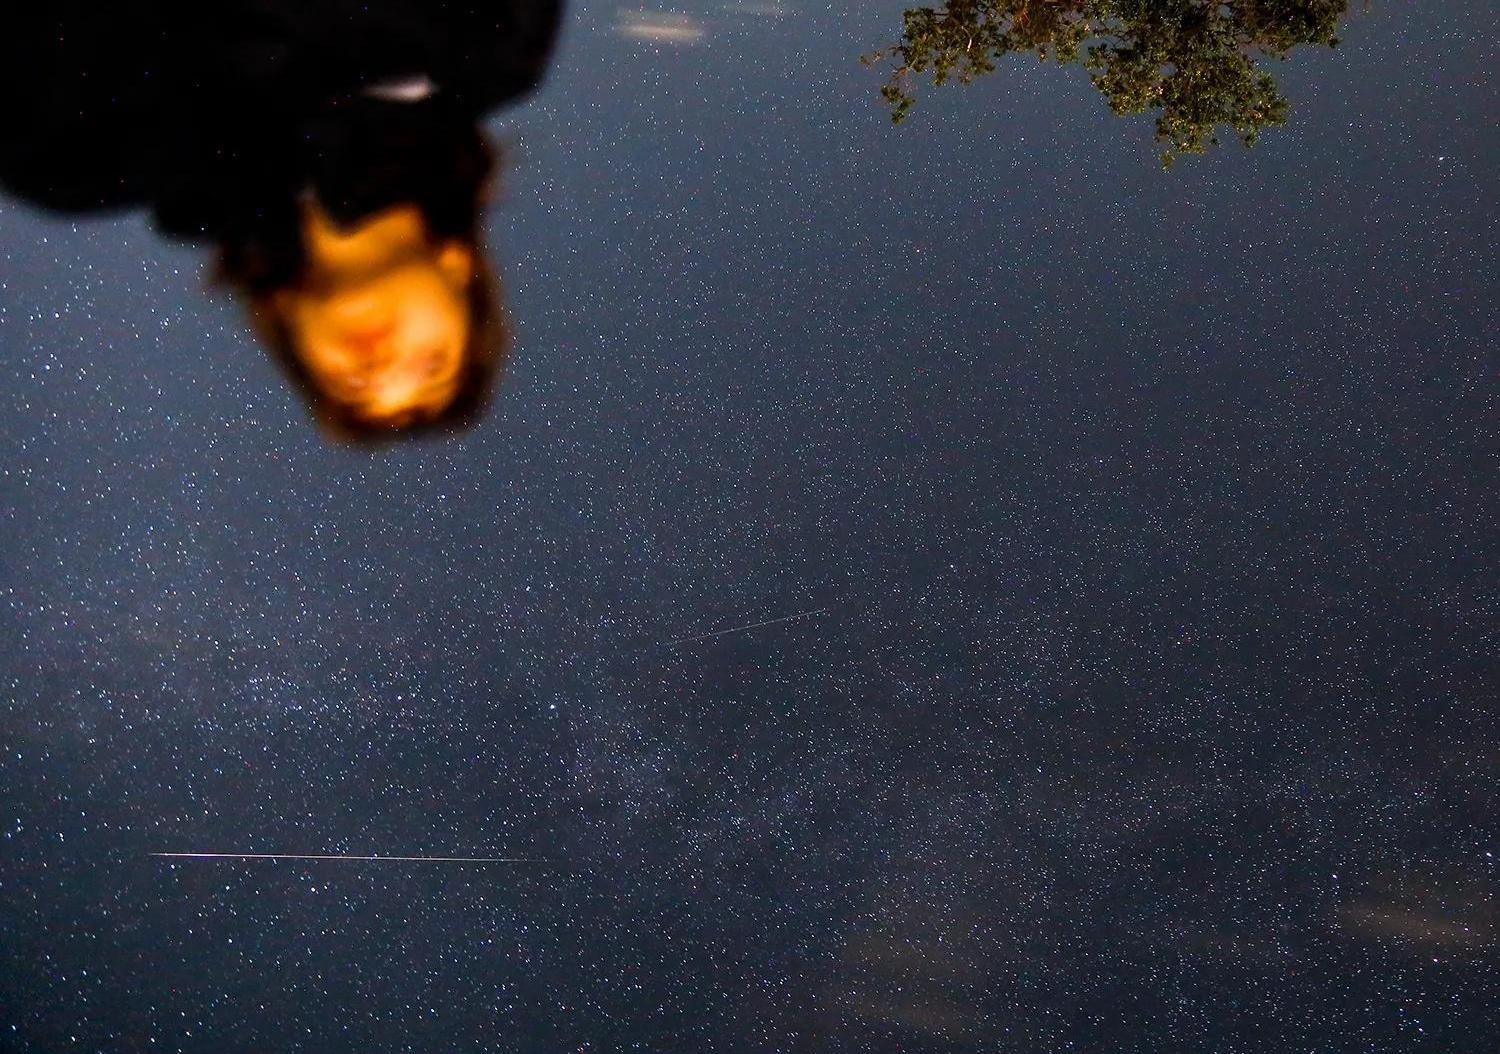meteorite: (99, 809, 549, 898), (632, 584, 825, 660)
